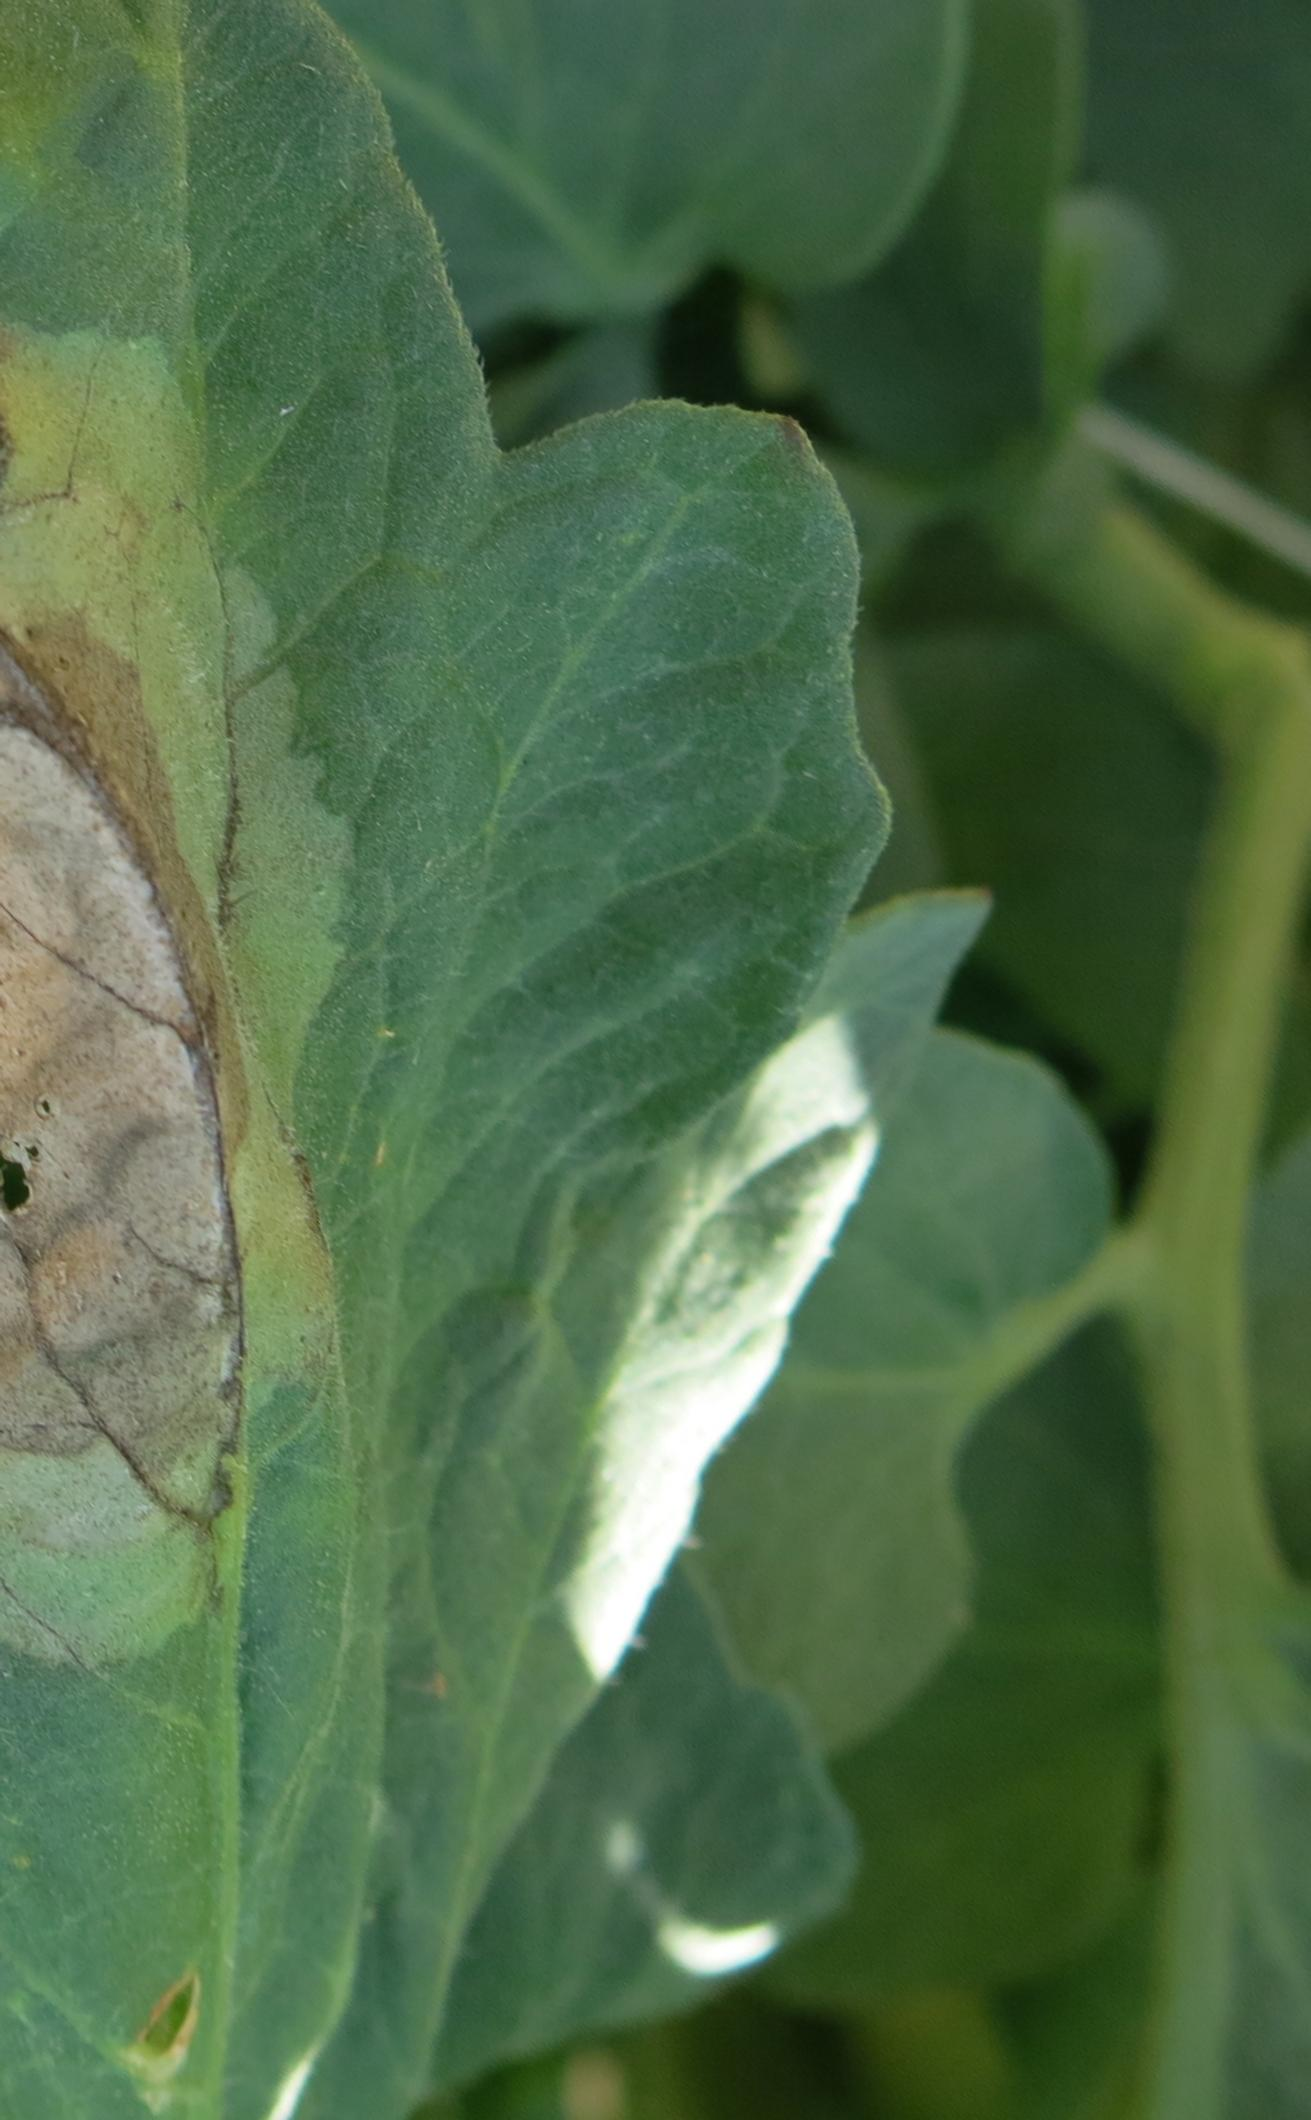Tomato leaf late blight: (0, 0, 1096, 2120)
